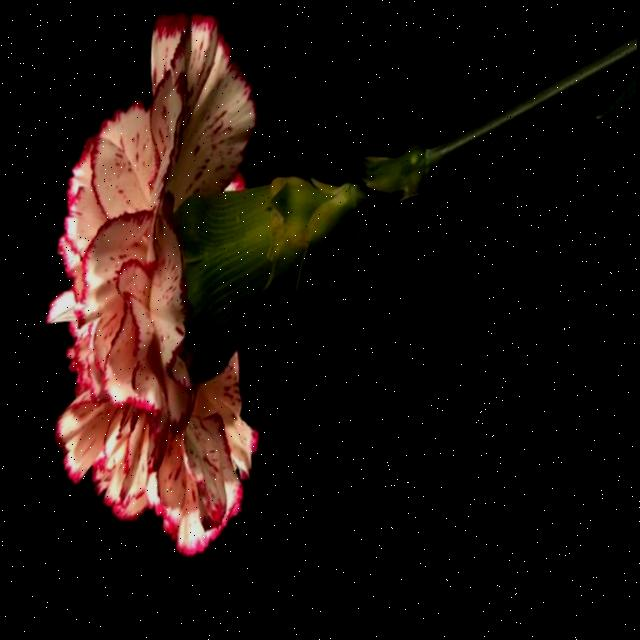carnation: (0, 0, 461, 603)
